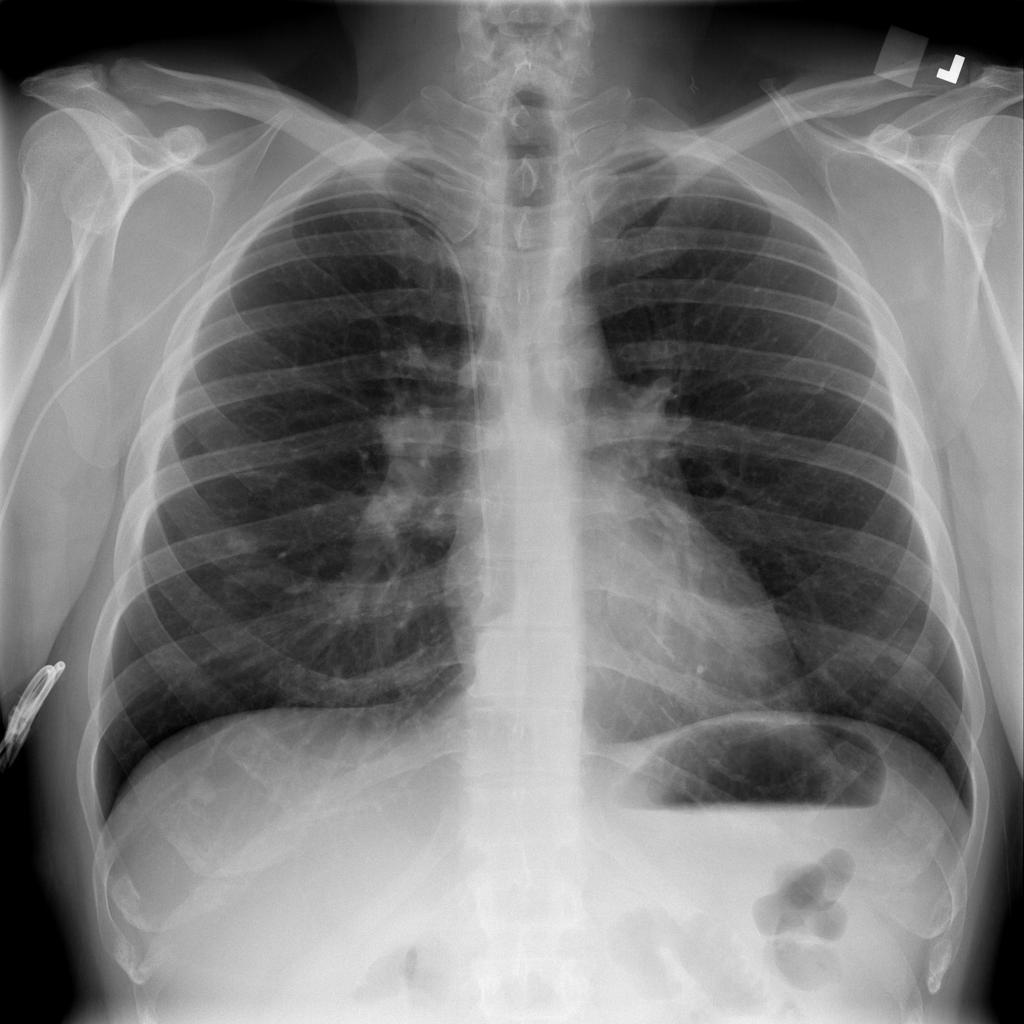nodule: (873, 613, 946, 688), (199, 509, 283, 571)
